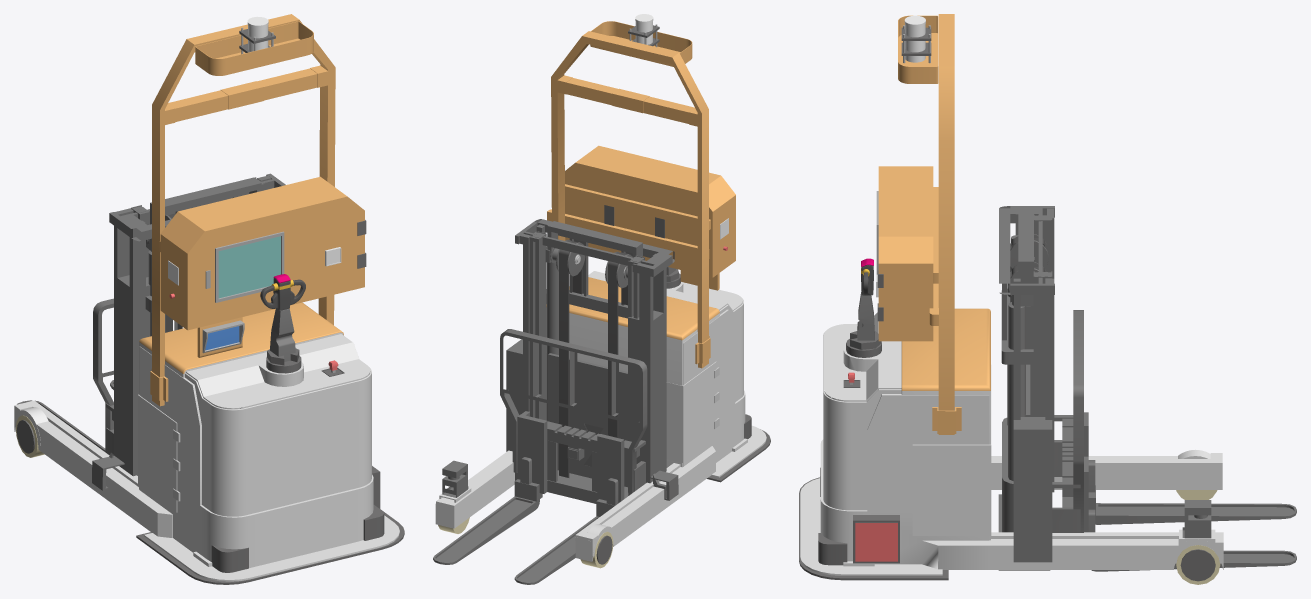
The model's file is zhengti.gltf.
The picture shows the model from 3 angles, left to right: view 1: azimuth 30°, elevation 25°; view 2: azimuth 150°, elevation 25°; view 3: azimuth 270°, elevation 25°; orthographic projection. The views are drawn at different scales.
Visible parts, largest first — view 1: CAR_UP-浅灰色金属.2 (×2), CAR_UP-橙色 (×2), CAR_UP-灰色金属.1 (×2), CAR_UP-黑色粗糙 (×2), CAR_UP-蓝绿色, CAR_UP-灰色金属, CAR_UP-灰色金属.2, CAR_UP-黑色粗糙.1, CAR_UP-BANJI-玻璃, CAR_UP-蓝色; view 2: CAR_UP-灰色金属.1 (×3), CAR_UP-橙色 (×2), CAR_UP-浅灰色金属.2, CAR_UP-黑色粗糙.1, CAR_UP-黑色粗糙 (×3), CAR_UP-米色轮胎, CAR_UP-BANJI-玻璃; view 3: CAR_UP-浅灰色金属.2, CAR_UP-灰色金属.1 (×3), CAR_UP-橙色 (×2), CAR_UP-黑色粗糙 (×2), CAR_UP-红色.1, CAR_UP-米色轮胎, CAR_UP-BANJI-玻璃, CAR_UP-灰色金属.2.
Part boxes in pixels (x1,y1,x2,y2): CAR_UP-浅灰色金属.2 (×2): (14,332,399,581); CAR_UP-橙色 (×2): (139,14,364,406); CAR_UP-灰色金属.1 (×2): (17,173,285,490); CAR_UP-黑色粗糙 (×2): (16,29,404,584); CAR_UP-蓝绿色: (218,236,280,298); CAR_UP-灰色金属: (202,27,335,373); CAR_UP-灰色金属.2: (270,308,295,361); CAR_UP-黑色粗糙.1: (260,278,305,310); CAR_UP-BANJI-玻璃: (247,16,268,51); CAR_UP-蓝色: (205,326,239,350); CAR_UP-灰色金属.1 (×3): (433,219,678,584); CAR_UP-橙色 (×2): (546,21,735,368); CAR_UP-浅灰色金属.2: (435,271,766,561); CAR_UP-黑色粗糙.1: (559,241,631,477); CAR_UP-黑色粗糙 (×3): (550,25,770,564); CAR_UP-米色轮胎: (438,517,613,568); CAR_UP-BANJI-玻璃: (635,14,653,44); CAR_UP-浅灰色金属.2: (800,312,1223,575); CAR_UP-灰色金属.1 (×3): (998,206,1296,571); CAR_UP-橙色 (×2): (878,14,990,434); CAR_UP-黑色粗糙 (×2): (799,27,1215,581); CAR_UP-红色.1: (855,523,897,561); CAR_UP-米色轮胎: (1176,490,1220,584); CAR_UP-BANJI-玻璃: (904,15,925,62); CAR_UP-灰色金属.2: (857,291,874,340).
Size of what is drawn, in the model's own units: 1.19 by 2.78 by 2.41.
